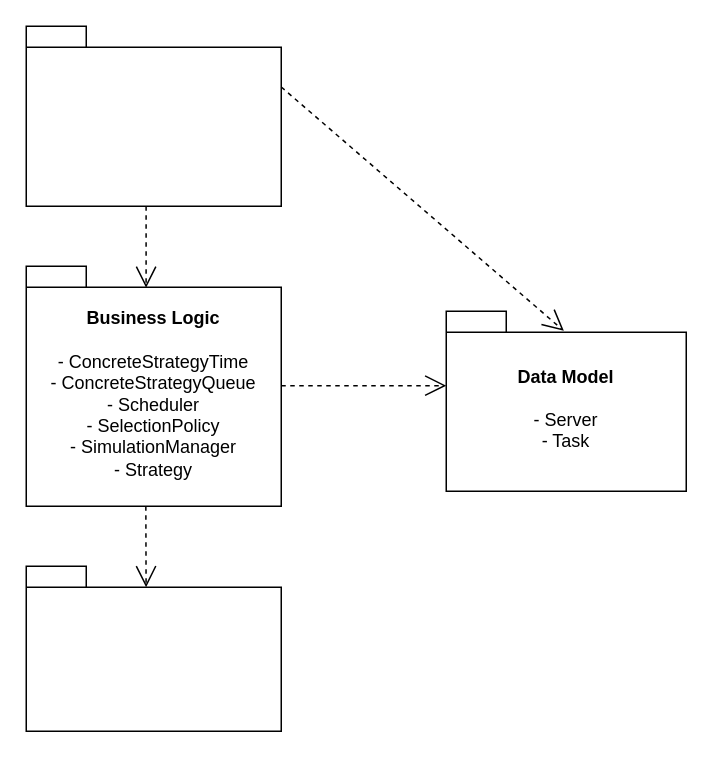
The diagram is 713 pixels wide and 758 high, and some of its shapes have lost their labels. The shapes that lost their labels are listed below. From the top down, each one's centre as x and y in pixels, then its label:
(153,115): Graphical User Interface - SimulationFrame
(153,648): Data Access - Logger
